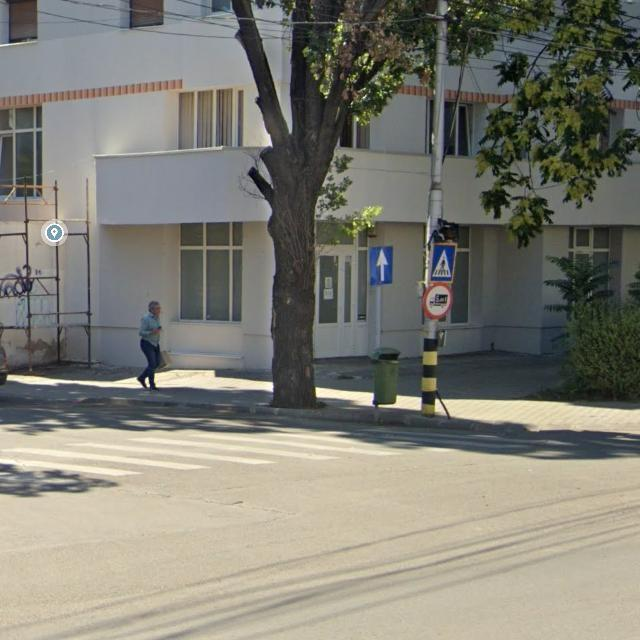info_crosswalk: (428, 243, 458, 283)
